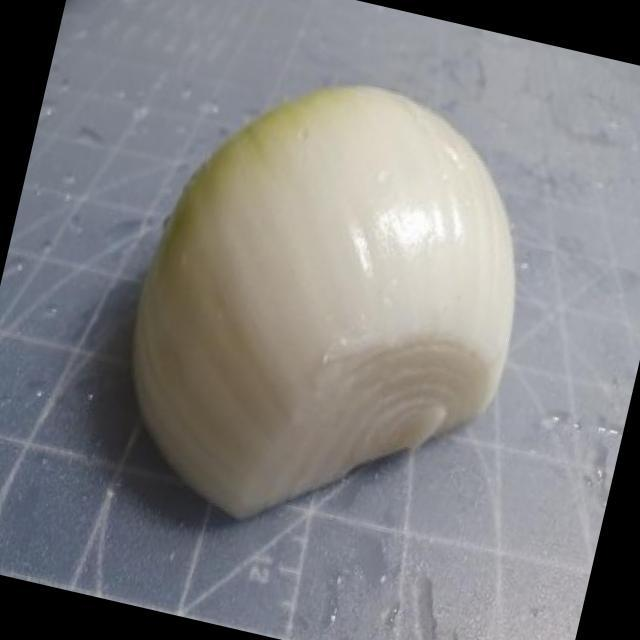Onion: (133, 85, 517, 520)
